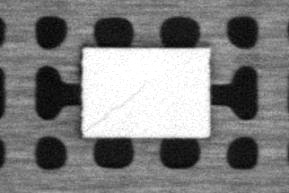DIE_CRACK: (87, 86, 145, 130)
